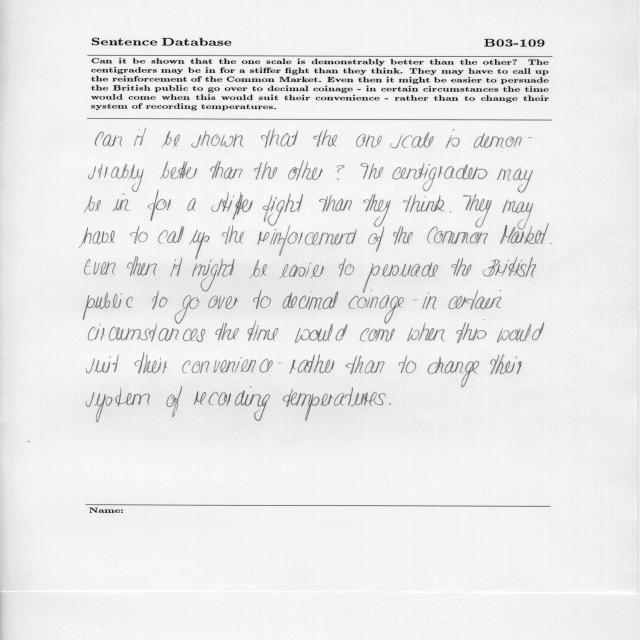word: (283, 387, 386, 421), (258, 225, 357, 256), (393, 163, 488, 192), (194, 386, 270, 421), (363, 262, 438, 293), (89, 323, 206, 342), (86, 389, 150, 423), (349, 290, 404, 324), (428, 357, 479, 387), (89, 164, 143, 192), (182, 357, 273, 373), (192, 259, 235, 292), (83, 292, 133, 320), (263, 193, 303, 226), (157, 161, 197, 192), (211, 192, 253, 220), (427, 227, 488, 245), (483, 257, 536, 277), (500, 223, 549, 244), (283, 292, 339, 310), (449, 290, 502, 309), (295, 324, 347, 343), (463, 194, 492, 227), (497, 323, 544, 343), (191, 130, 243, 148), (503, 200, 534, 230), (363, 194, 391, 227), (290, 354, 335, 374), (474, 133, 532, 148), (497, 169, 533, 193), (403, 195, 445, 213), (79, 227, 115, 248), (135, 352, 168, 374), (175, 295, 200, 324), (279, 263, 324, 279), (456, 320, 487, 343), (390, 132, 434, 148), (261, 129, 298, 148), (346, 356, 385, 374), (288, 161, 323, 181), (407, 323, 445, 341), (490, 354, 522, 375), (148, 192, 171, 221), (127, 256, 157, 276), (248, 321, 278, 341), (210, 161, 243, 179), (86, 355, 119, 373), (189, 230, 209, 259), (319, 195, 352, 212), (85, 259, 116, 275), (360, 328, 395, 342), (167, 387, 182, 417), (158, 226, 184, 243), (208, 295, 239, 309), (314, 129, 338, 147), (215, 323, 239, 341), (222, 226, 244, 245), (368, 226, 384, 252), (254, 162, 277, 180), (95, 132, 122, 147), (393, 226, 413, 245), (451, 258, 472, 276), (361, 163, 383, 179), (249, 260, 267, 279), (253, 290, 271, 309), (356, 134, 382, 147), (130, 226, 148, 244), (399, 355, 417, 373), (162, 131, 180, 148), (84, 196, 101, 213), (113, 194, 129, 212), (152, 292, 168, 310), (339, 258, 354, 277), (446, 129, 460, 148), (170, 257, 182, 277), (423, 292, 437, 309), (134, 129, 146, 146), (337, 165, 345, 180), (187, 198, 196, 211), (413, 300, 418, 301), (550, 243, 552, 244), (389, 403, 391, 404), (450, 211, 451, 212), (278, 363, 282, 363)
